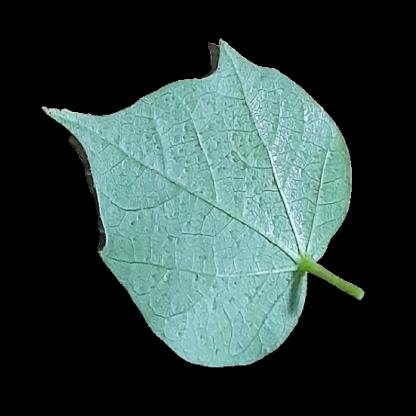healthy: (125, 127, 309, 287), (181, 288, 275, 351), (303, 127, 346, 229), (211, 78, 288, 125)
